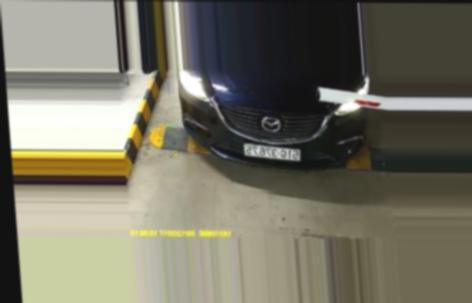License_Plate: (243, 145, 303, 161)
